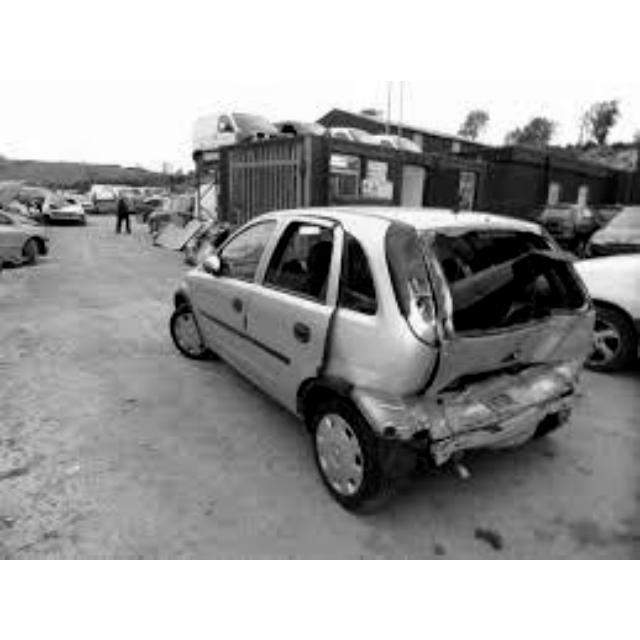Rear-windscreen-Damage: (418, 222, 571, 323)
boot-dent: (443, 317, 578, 401)
rear-bumper-dent: (430, 394, 556, 450)
